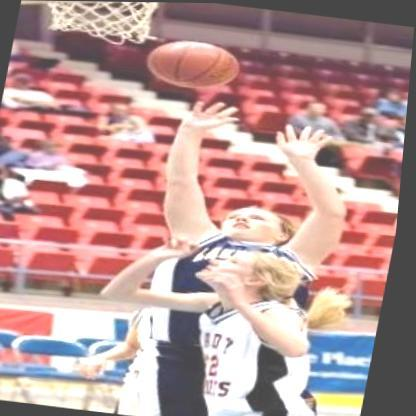basketball: (138, 29, 249, 99)
